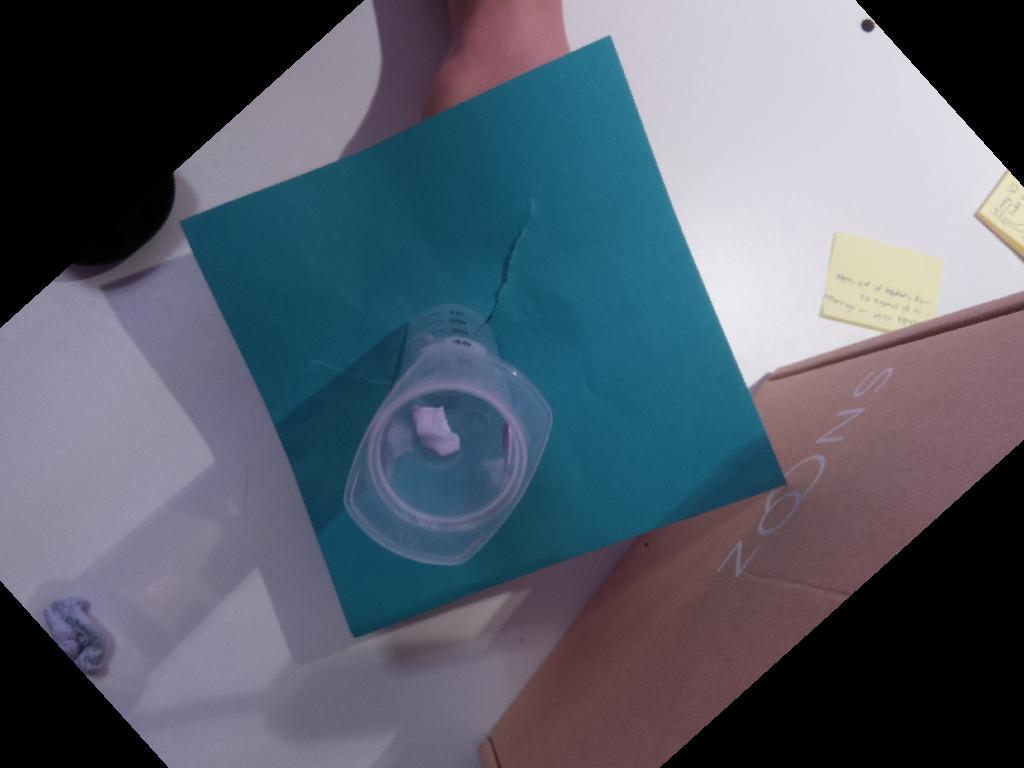dirty: (343, 340, 553, 566)
